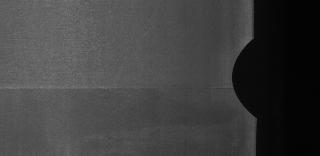welding line: (2, 82, 248, 94)
